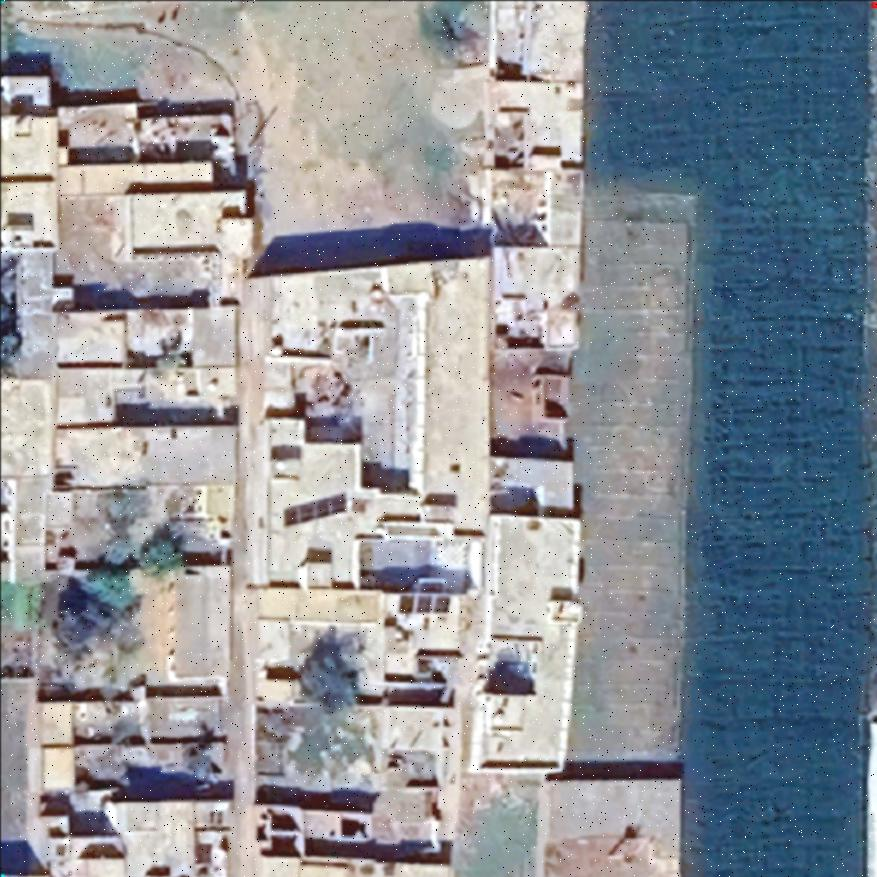Solarpanel: (280, 489, 352, 532), (394, 587, 454, 617)
